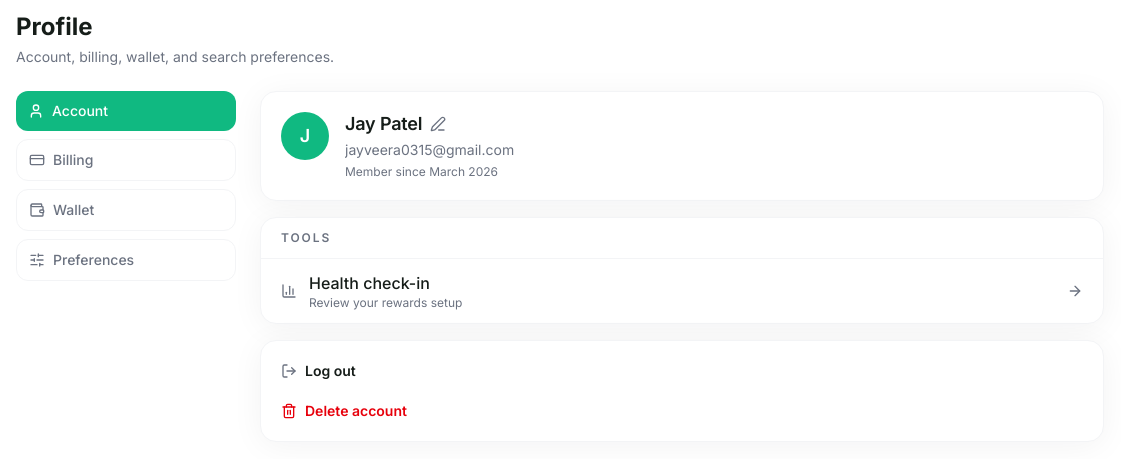
settings page subscription tab › shows day pass time remaining in subscription details for non-Pro day pass users
Click the button "Billing". click: (126, 160)
box: [16, 139, 236, 181]
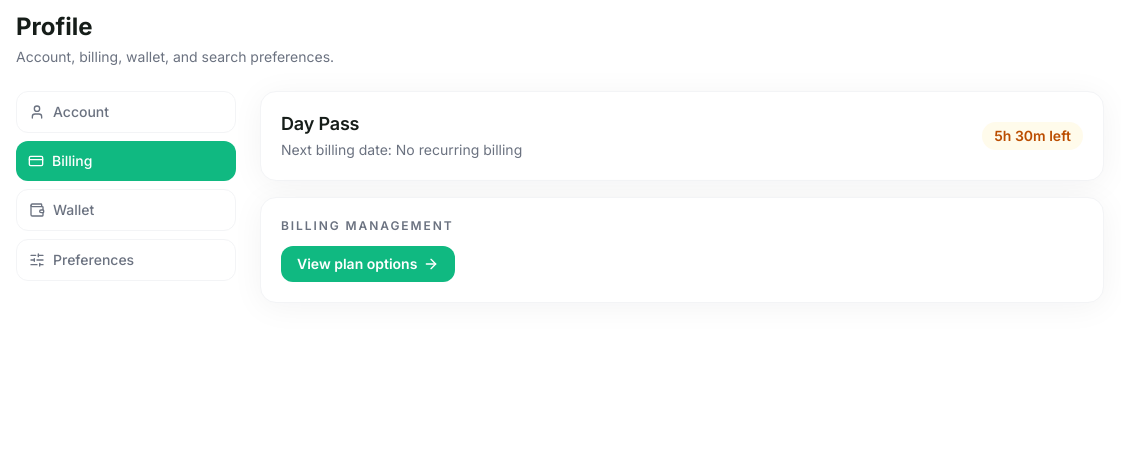
Now the text "Day Pass" is shown, box [281, 113, 359, 134]
Now the text "5h 30m left" is shown, box [982, 122, 1083, 150]
Now the text "No recurring billing" is shown, box [396, 141, 522, 158]
